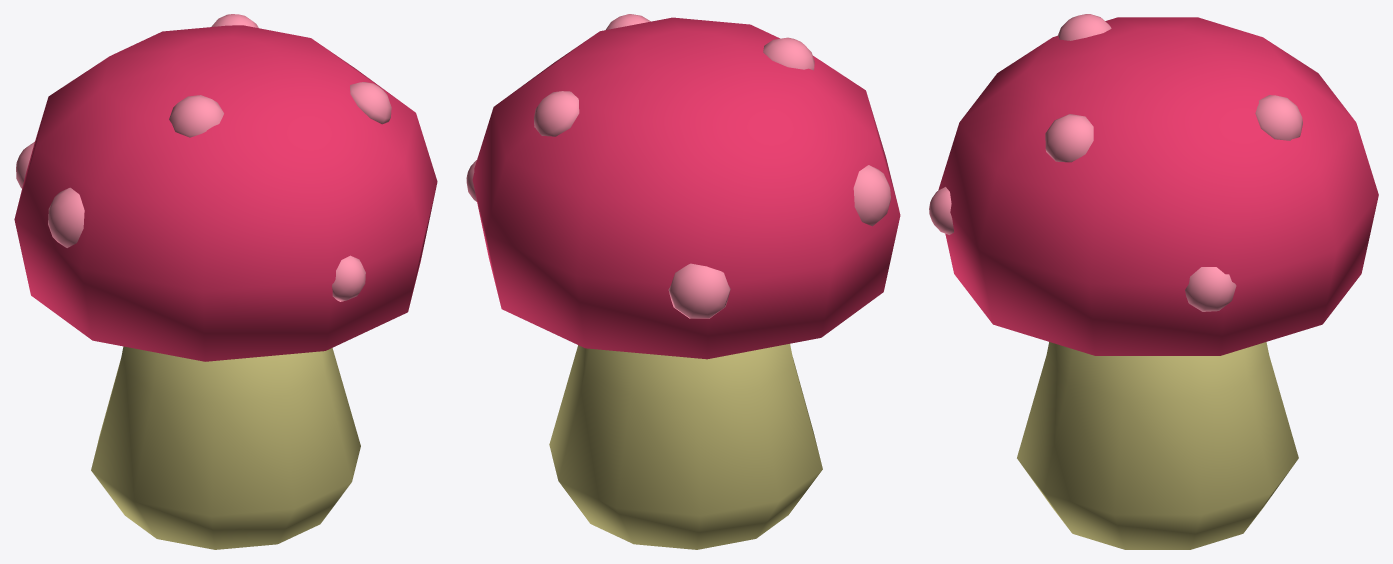
The model's file is Mushroom_FlyAgaric_Pink_3.fbx.
3 renders of one model, left to right at view 1: azimuth 30°, elevation 25°; view 2: azimuth 150°, elevation 25°; view 3: azimuth 270°, elevation 25°, orthographic. The views are drawn at different scales.
Parts seen in each view (by area): view 1: Cylinder.232, Cylinder.233, Cylinder.234; view 2: Cylinder.232, Cylinder.233, Cylinder.234; view 3: Cylinder.232, Cylinder.233, Cylinder.234.
Part boxes in pixels (x1=…): Cylinder.232: x1=14, y1=25, x2=437, y2=361; Cylinder.233: x1=91, y1=346, x2=360, y2=549; Cylinder.234: x1=16, y1=14, x2=391, y2=301; Cylinder.232: x1=472, y1=17, x2=900, y2=359; Cylinder.233: x1=549, y1=344, x2=822, y2=549; Cylinder.234: x1=466, y1=14, x2=890, y2=318; Cylinder.232: x1=938, y1=17, x2=1378, y2=355; Cylinder.233: x1=1017, y1=342, x2=1298, y2=549; Cylinder.234: x1=929, y1=14, x2=1302, y2=311.
Size of the model in its own units: 81.5 by 93.68 by 83.14.
